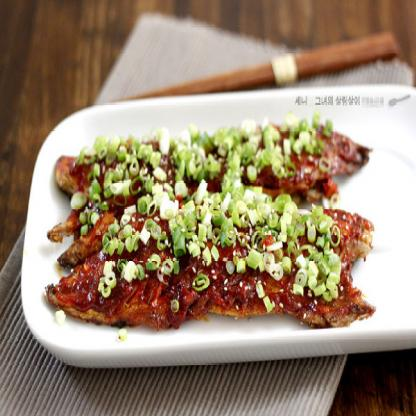Peixe: (40, 113, 389, 343)
